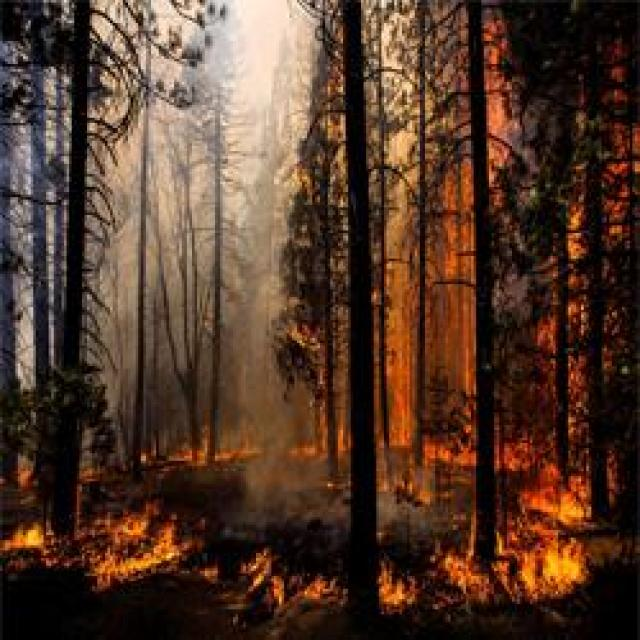fire: (545, 551, 580, 587), (18, 528, 44, 548)
smoke: (242, 377, 298, 499)
